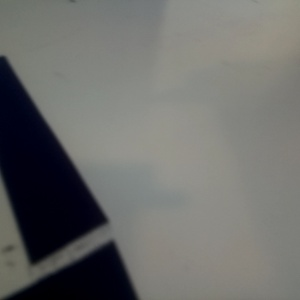top_right: (1, 64, 86, 126)
